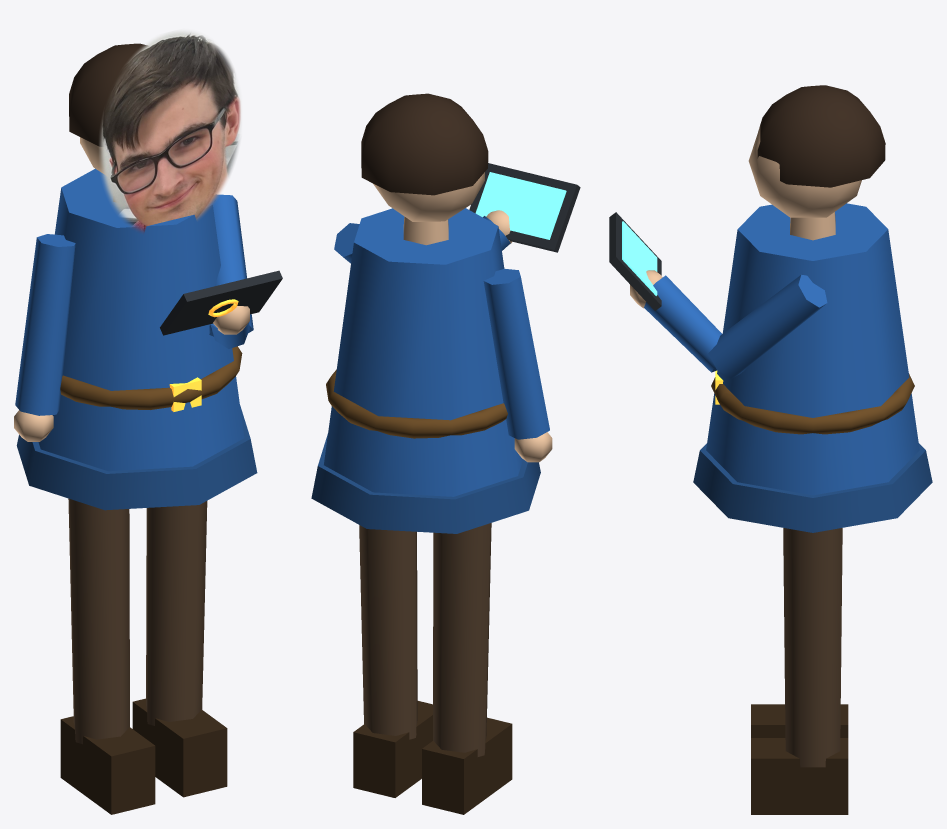
File: arthur-stand.glb
3 renders of one model, left to right at view 1: azimuth 30°, elevation 25°; view 2: azimuth 150°, elevation 25°; view 3: azimuth 270°, elevation 25°, orthographic. The views are drawn at different scales.
Size of the model in its own units: 0.5784 by 1.84 by 0.7292.
Materials: 11 (1 with a texture image).
